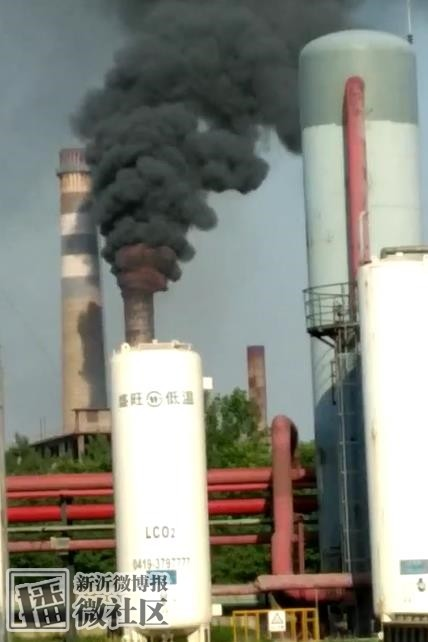smoke: (69, 1, 337, 277)
